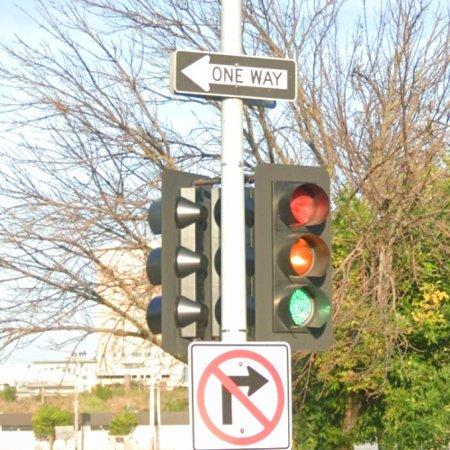traffic lights: (255, 165, 334, 352)
